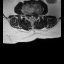CCS_normal: (31, 11, 32, 19)
LFS_severe_stenosis: (34, 11, 36, 16)
LLS_severe_stenosis: (32, 11, 34, 17)
RFS_stenosis: (26, 11, 29, 16)
RLS_stenosis: (29, 11, 31, 16)
